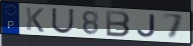7: (163, 12, 185, 41)
8: (82, 10, 100, 35)
B: (105, 10, 132, 38)
J: (136, 13, 157, 39)
K: (25, 6, 46, 34)
U: (50, 7, 76, 35)
